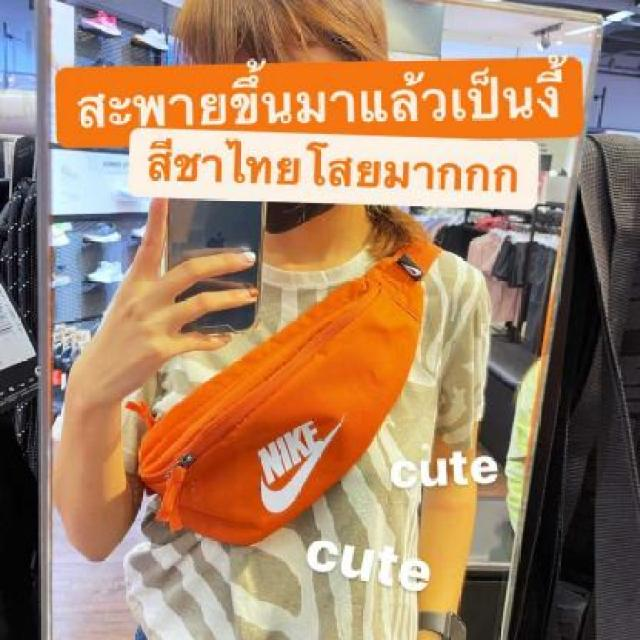Bag: (97, 191, 466, 589)
